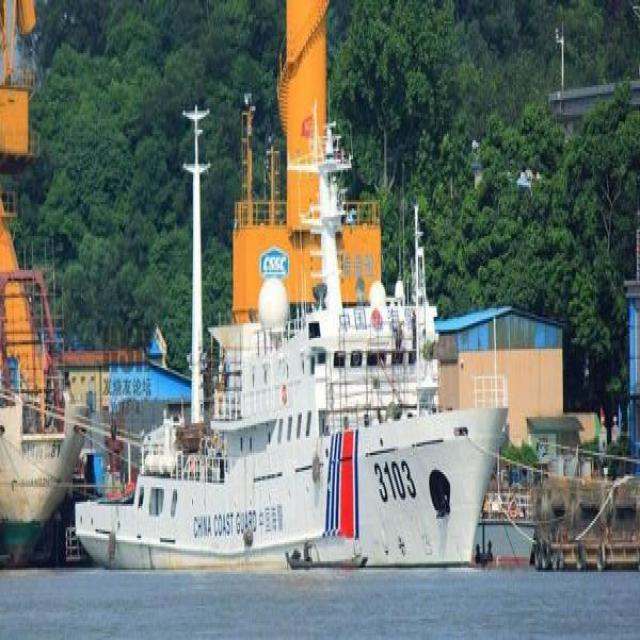Ship: (75, 225, 508, 572), (283, 534, 371, 575)
